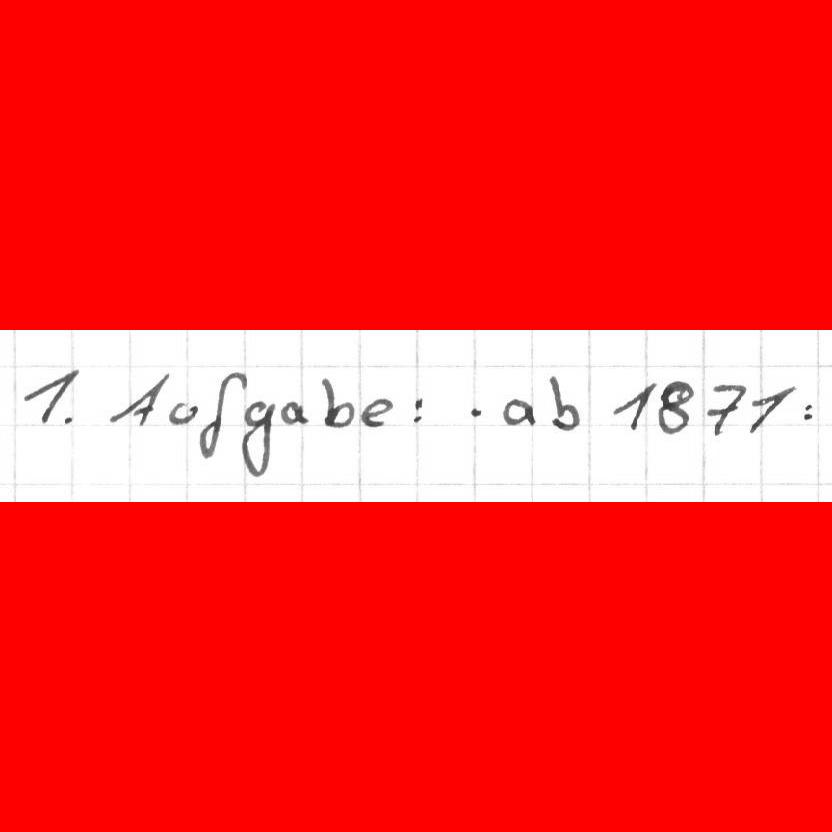Char: (196, 369, 248, 458), (20, 369, 80, 429), (109, 373, 168, 429), (239, 400, 275, 473), (609, 379, 654, 434), (746, 383, 794, 433), (545, 372, 582, 435), (705, 381, 746, 436), (318, 374, 355, 434), (655, 381, 696, 433), (501, 393, 537, 428), (358, 395, 393, 429), (164, 399, 198, 430), (281, 398, 309, 428), (409, 394, 427, 424), (799, 399, 816, 424), (465, 402, 486, 421)
